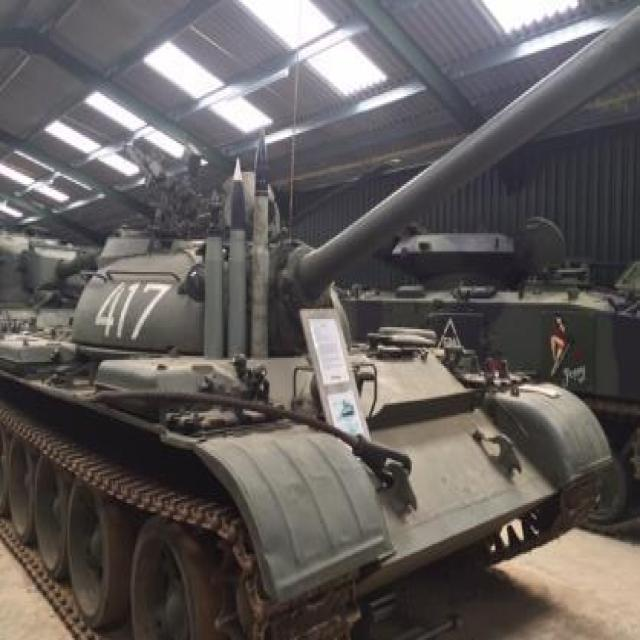Tanks: (27, 172, 610, 624)
